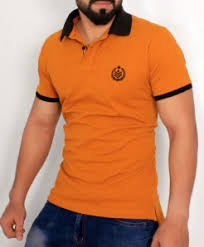C_polo shirt: (31, 18, 198, 224)
